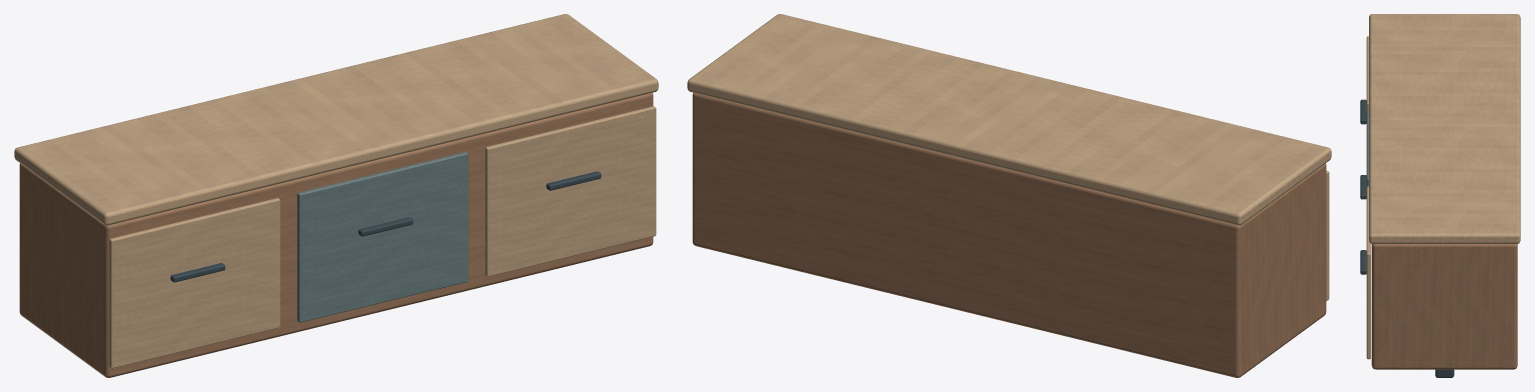
File: media_console.glb
3 renders of one model, left to right at view 1: azimuth 30°, elevation 25°; view 2: azimuth 150°, elevation 25°; view 3: azimuth 270°, elevation 25°, orthographic. The views are drawn at different scales.
Visible parts, largest first — view 1: ConsoleTop, MediaBody, _MeshInstance3D_9, _MeshInstance3D_11, FrontPanel; view 2: MediaBody, ConsoleTop; view 3: ConsoleTop, MediaBody, _MeshInstance3D_11, _MeshInstance3D_9, FrontPanel, Handle, _MeshInstance3D_13, _MeshInstance3D_10, _MeshInstance3D_12.
Part boxes in pixels (x1,y1,x2,y2): ConsoleTop: (14, 14, 658, 225); MediaBody: (19, 92, 653, 377); _MeshInstance3D_9: (297, 152, 468, 322); _MeshInstance3D_11: (485, 106, 656, 276); FrontPanel: (109, 198, 280, 368); MediaBody: (692, 92, 1326, 377); ConsoleTop: (687, 14, 1331, 225); ConsoleTop: (1369, 14, 1520, 243); MediaBody: (1371, 244, 1517, 369); _MeshInstance3D_11: (1366, 186, 1370, 359); _MeshInstance3D_9: (1366, 111, 1368, 187); FrontPanel: (1366, 36, 1368, 111); Handle: (1360, 99, 1366, 124); _MeshInstance3D_13: (1435, 369, 1454, 377); _MeshInstance3D_10: (1360, 175, 1366, 199); _MeshInstance3D_12: (1360, 250, 1366, 274).
Bounding box in the file's own units: 1.8 × 0.61 × 0.549.
Materials: 4 (3 with a texture image).
